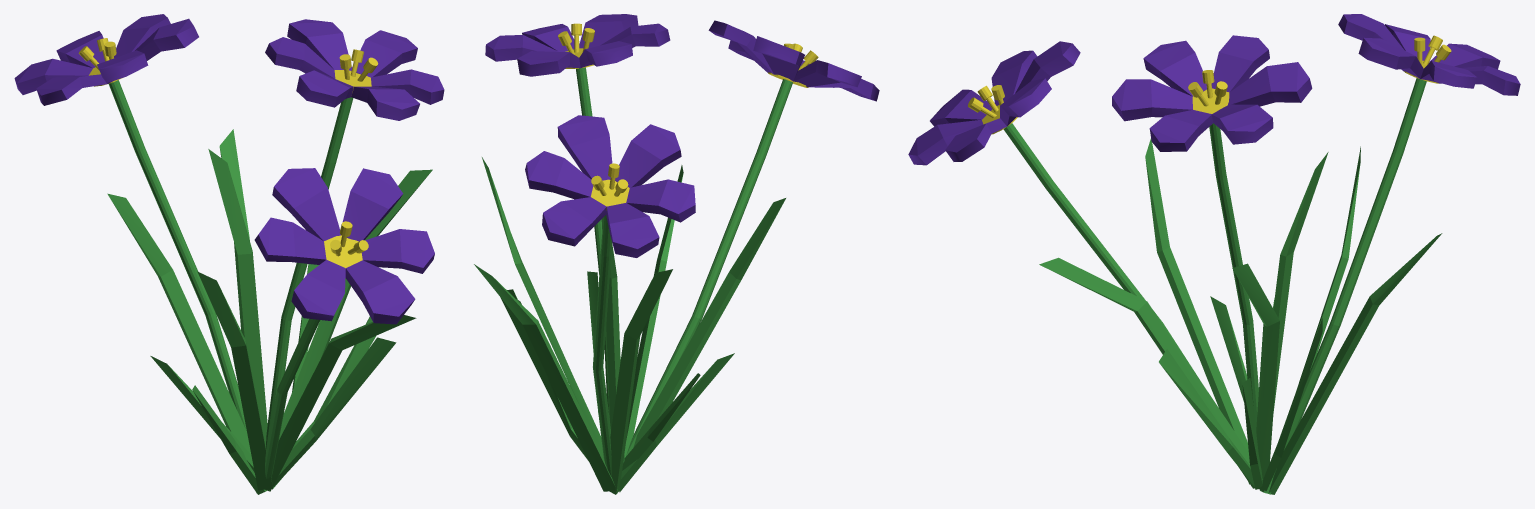
3 views of the same model, side by side, from view 1: azimuth 30°, elevation 25°; view 2: azimuth 150°, elevation 25°; view 3: azimuth 270°, elevation 25° (orthographic). The views are drawn at different scales.
Visible parts, largest first — view 1: node_MeshObject-1878116352-PolyPaper21; view 2: node_MeshObject-1878116352-PolyPaper21; view 3: node_MeshObject-1878116352-PolyPaper21.
Boxes of the visible parts, x1,y1,x2,y2 form: node_MeshObject-1878116352-PolyPaper21: [14, 14, 444, 494]; node_MeshObject-1878116352-PolyPaper21: [474, 14, 879, 494]; node_MeshObject-1878116352-PolyPaper21: [908, 14, 1520, 494].
Bounding box in the file's own units: 0.3173 × 0.4474 × 0.5422.
